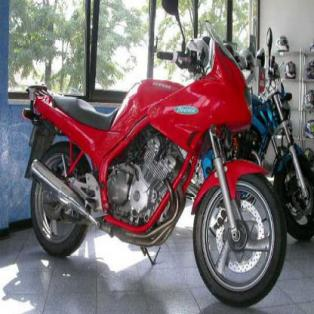Motocicleta: (27, 0, 288, 312)
